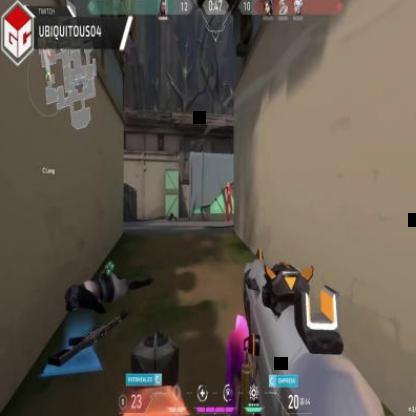enemy: (224, 182, 232, 223)
enemy_head: (227, 182, 230, 190)
